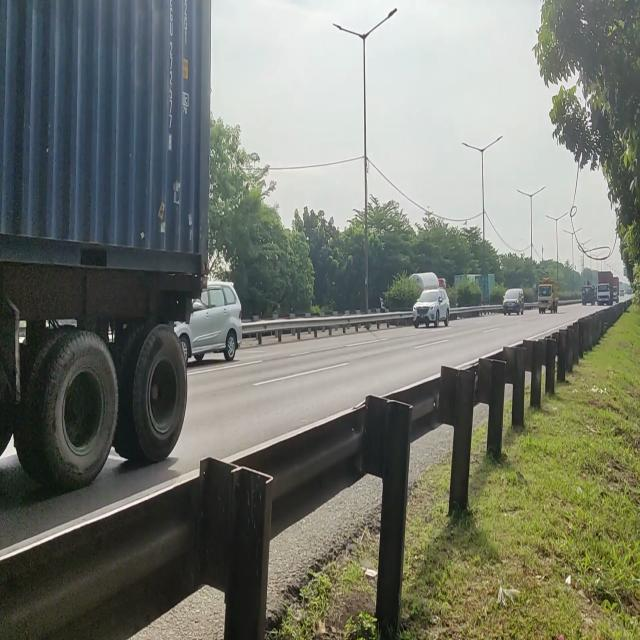Golongan I: (412, 284, 452, 331)
